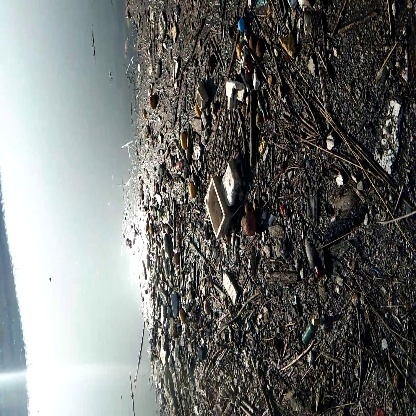plastic-garbage: (193, 163, 240, 241)
